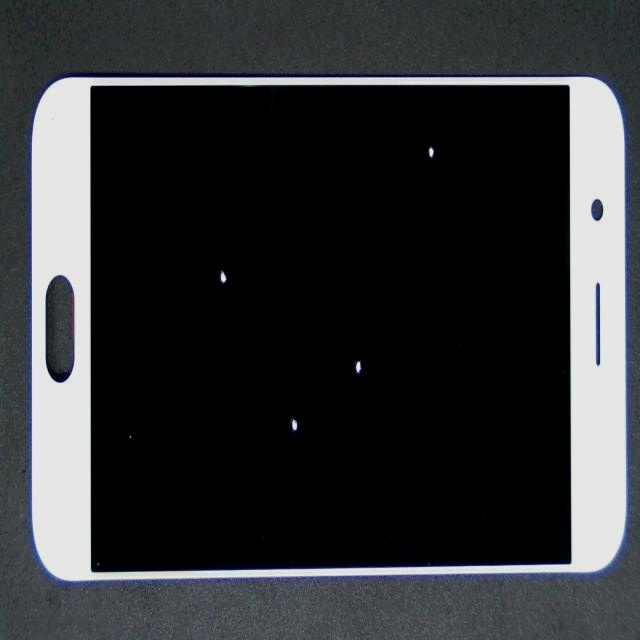stain: (142, 192, 524, 606), (181, 243, 463, 634), (101, 85, 303, 389), (238, 91, 640, 213)
